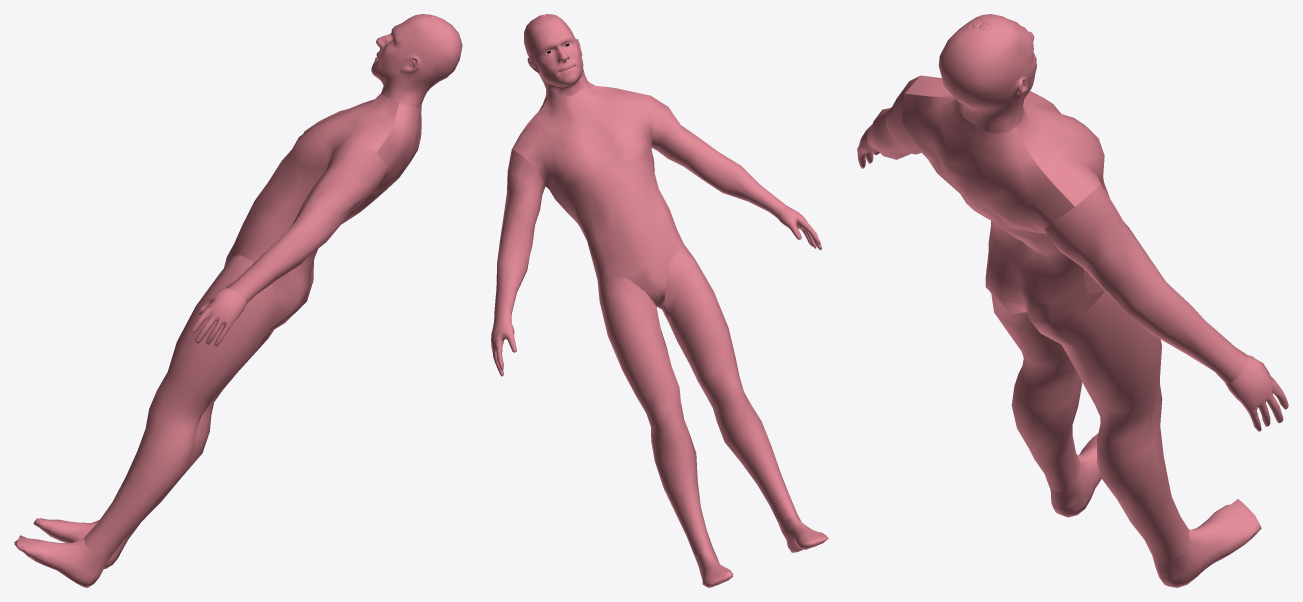
The model's file is Char_Base.blend2.glb.
3 renders of one model, left to right at view 1: azimuth 30°, elevation 25°; view 2: azimuth 150°, elevation 25°; view 3: azimuth 270°, elevation 25°, orthographic. The views are drawn at different scales.
Parts seen in each view (by area): view 1: leg1, Char_lp, body, hand1, head, leg2; view 2: body, leg2, leg1, hand2, hand1, Char_lp, head; view 3: Char_lp, leg2, hand2, leg1, head, body, hand1.
Boxes of the visible parts, x1,y1,x2,y2 form: leg1: (84,255,287,557); Char_lp: (14,39,421,587); body: (224,93,399,267); hand1: (226,143,385,303); head: (371,14,462,107); leg2: (125,330,273,539); body: (511,82,683,309); leg2: (597,276,712,555); leg1: (662,244,797,521); hand2: (494,150,545,322); hand1: (651,96,786,217); Char_lp: (491,39,828,587); head: (524,14,588,97); Char_lp: (857,79,1288,587); leg2: (1041,291,1189,560); hand2: (1044,185,1247,383); leg1: (991,293,1082,491); head: (938,14,1036,133); body: (905,75,1109,293); hand1: (867,76,921,159).
Bounding box in the file's own units: 1.34 × 1.74 × 0.9257.
